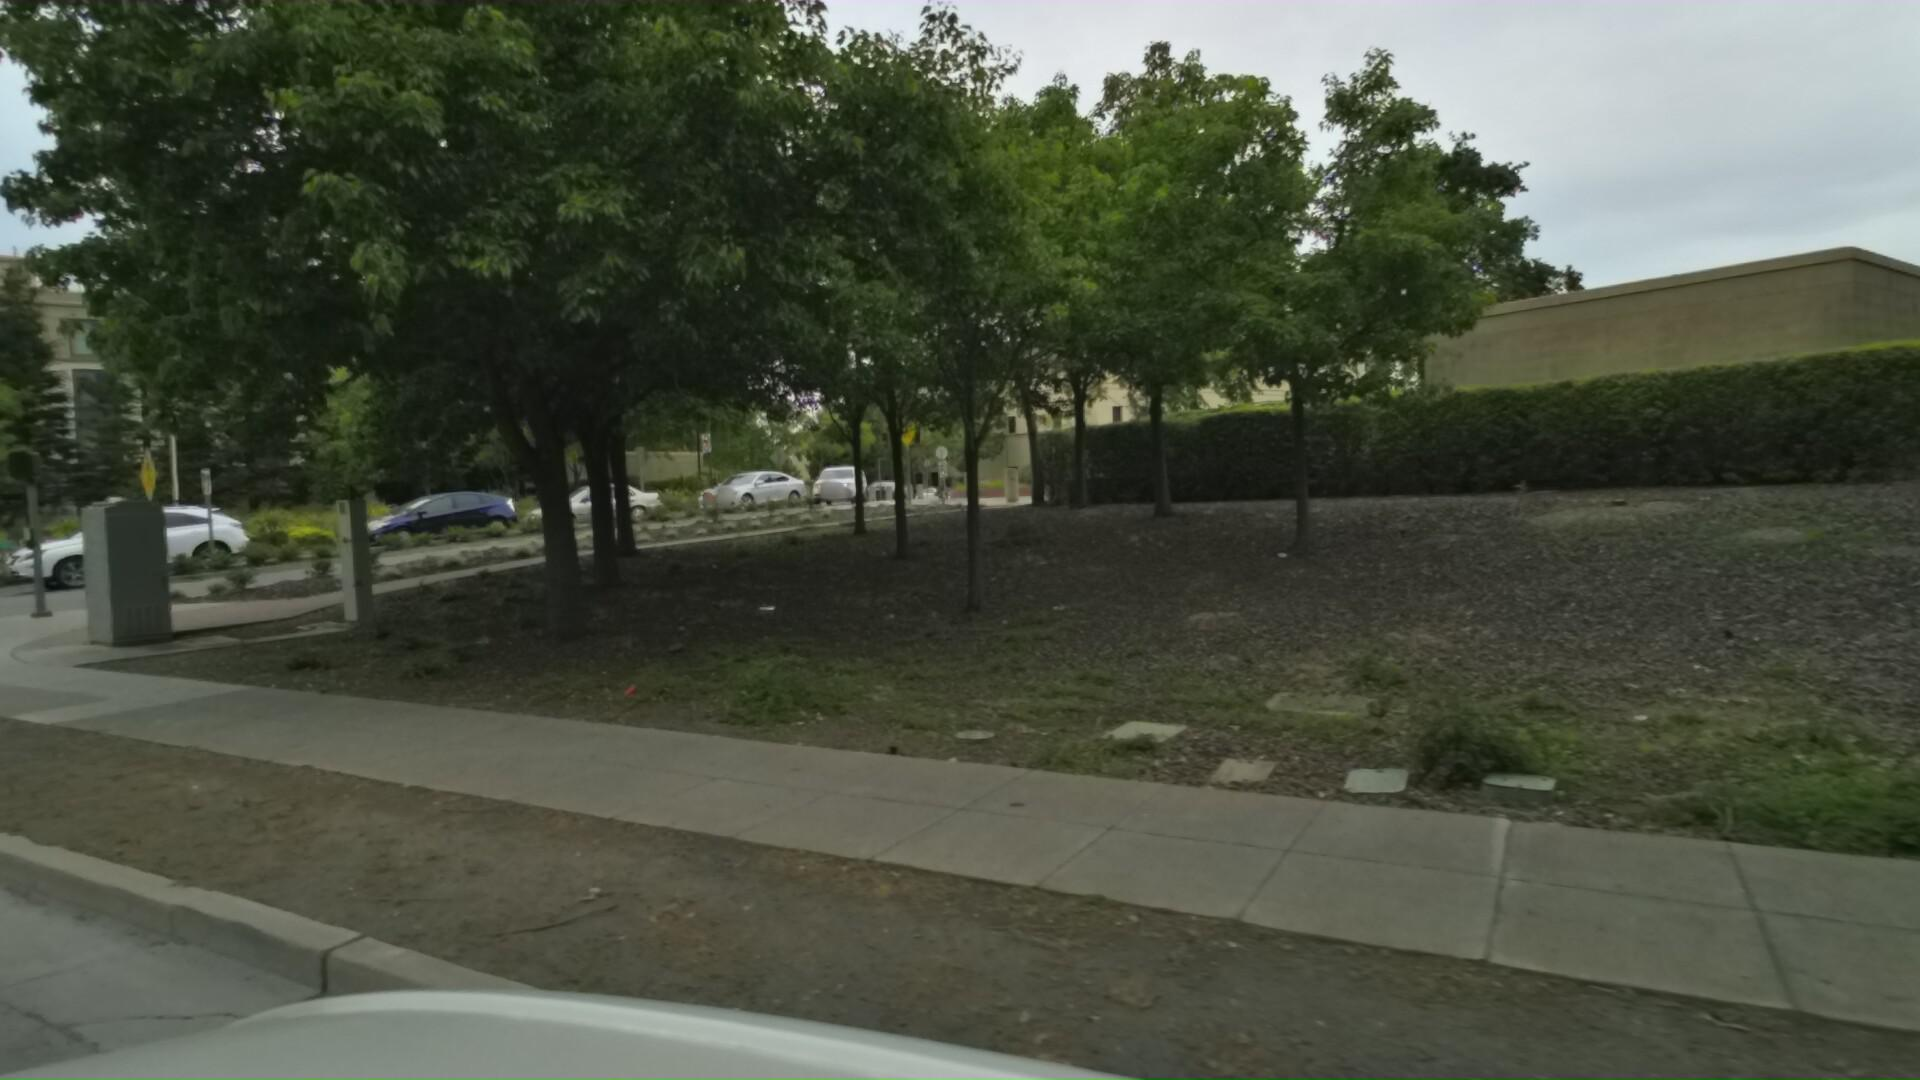car: (3, 496, 276, 589), (352, 480, 535, 550), (526, 471, 678, 529), (694, 459, 823, 512), (818, 454, 880, 500)
